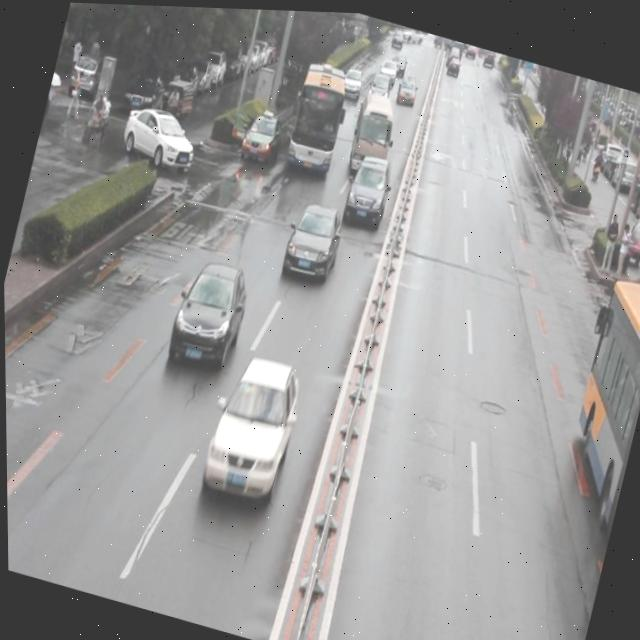car: (193, 343, 306, 511), (163, 253, 251, 371), (117, 101, 202, 177), (277, 196, 345, 284), (340, 148, 394, 228), (233, 115, 283, 178)
truck: (344, 87, 401, 179)
van: (515, 271, 640, 640), (282, 57, 352, 178)
